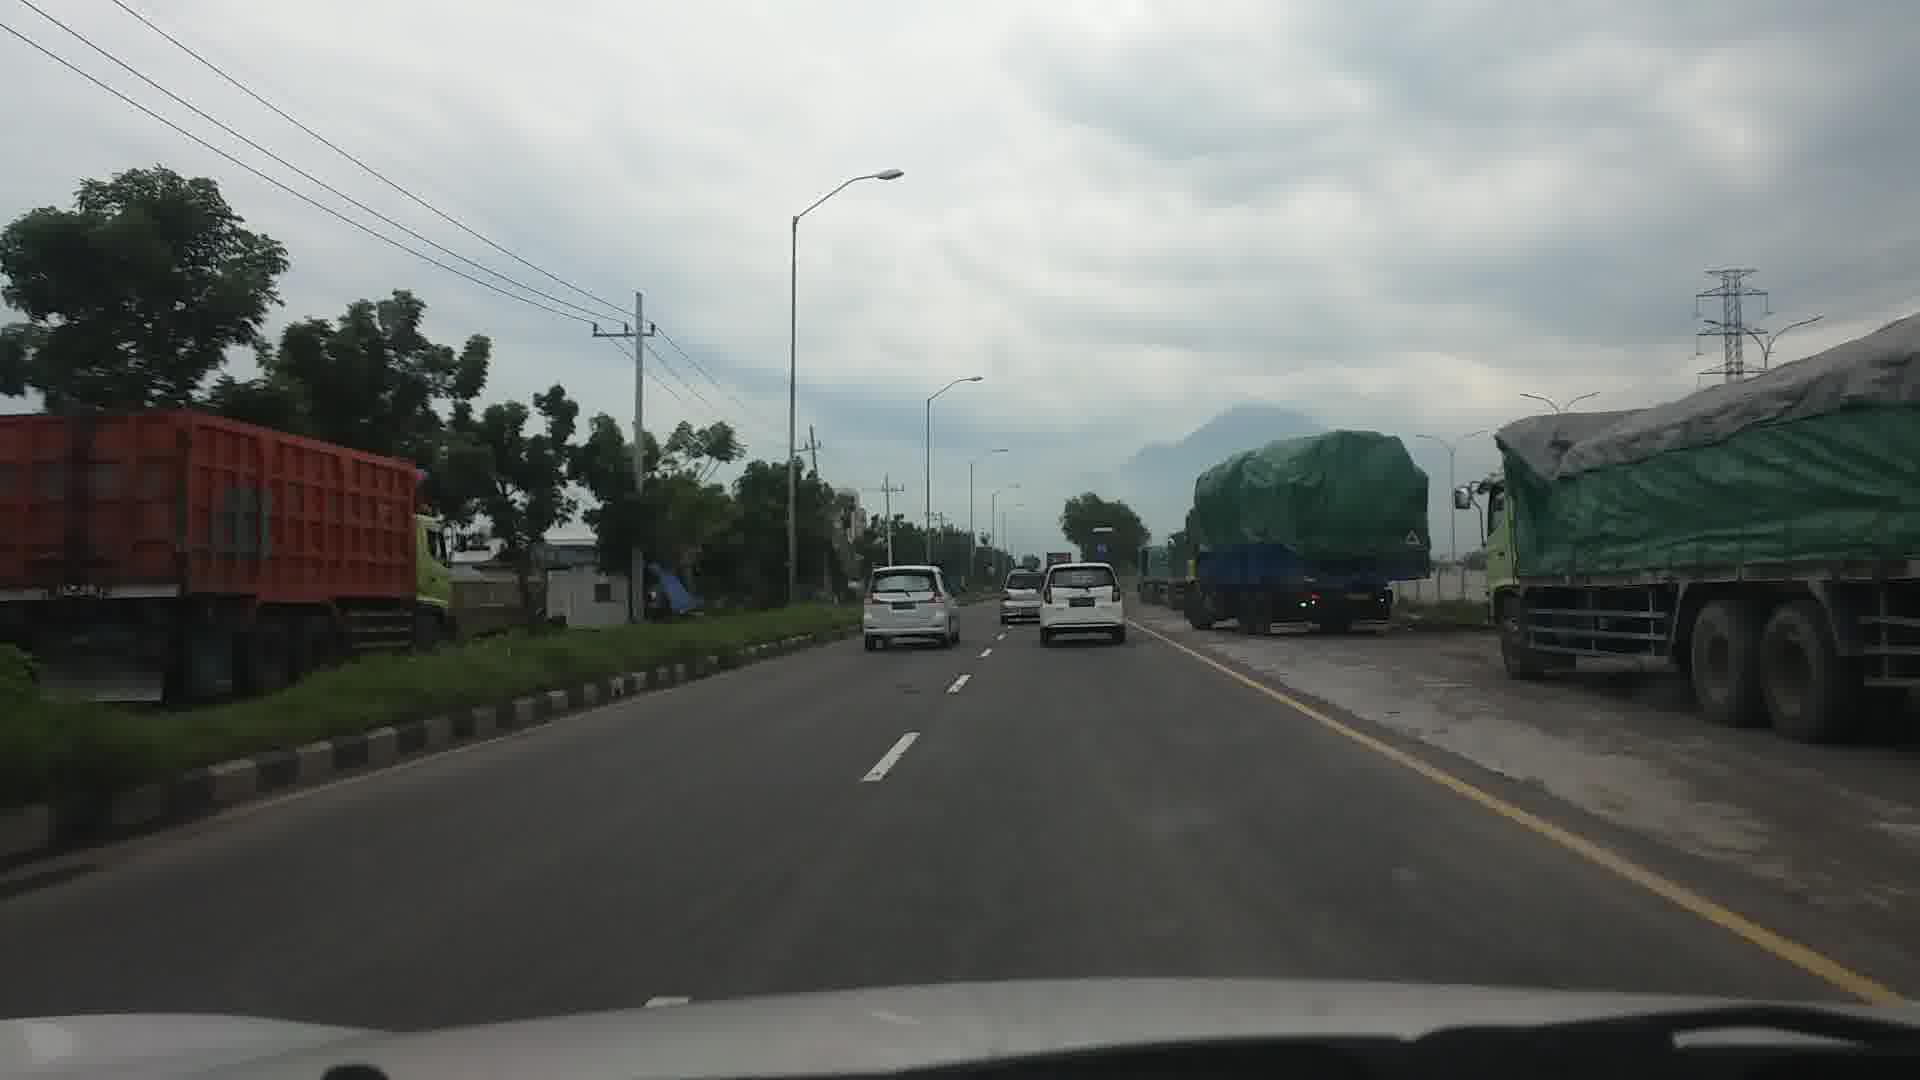plate_positive: (1069, 597, 1095, 608), (893, 603, 916, 611)
